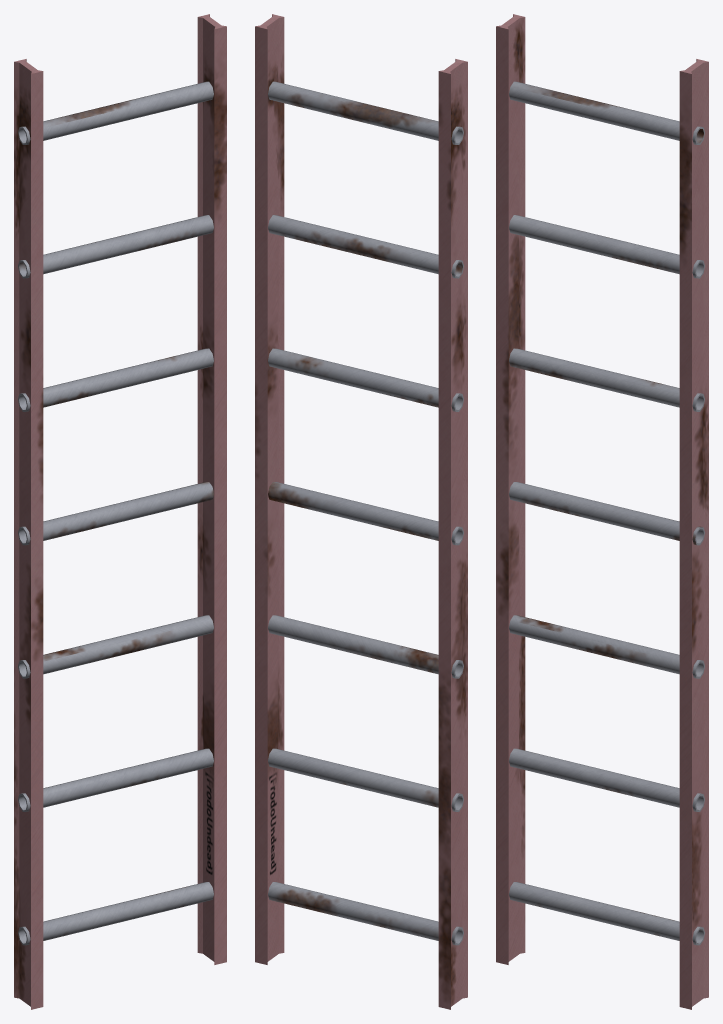
Rendered from Ladder.fbx.
3 views of the same model, side by side, from view 1: azimuth 30°, elevation 25°; view 2: azimuth 150°, elevation 25°; view 3: azimuth 330°, elevation 25° (orthographic).
Visible parts, largest first — view 1: Cylinder.002; view 2: Cylinder.002; view 3: Cylinder.002.
Part boxes in pixels (bbox=[...]): Cylinder.002: bbox=[14, 14, 226, 1009]; Cylinder.002: bbox=[255, 14, 467, 1009]; Cylinder.002: bbox=[496, 14, 708, 1009].
Size of the model in its own units: 231 by 1053 by 34.34.
Materials: 1 (1 with a texture image).
